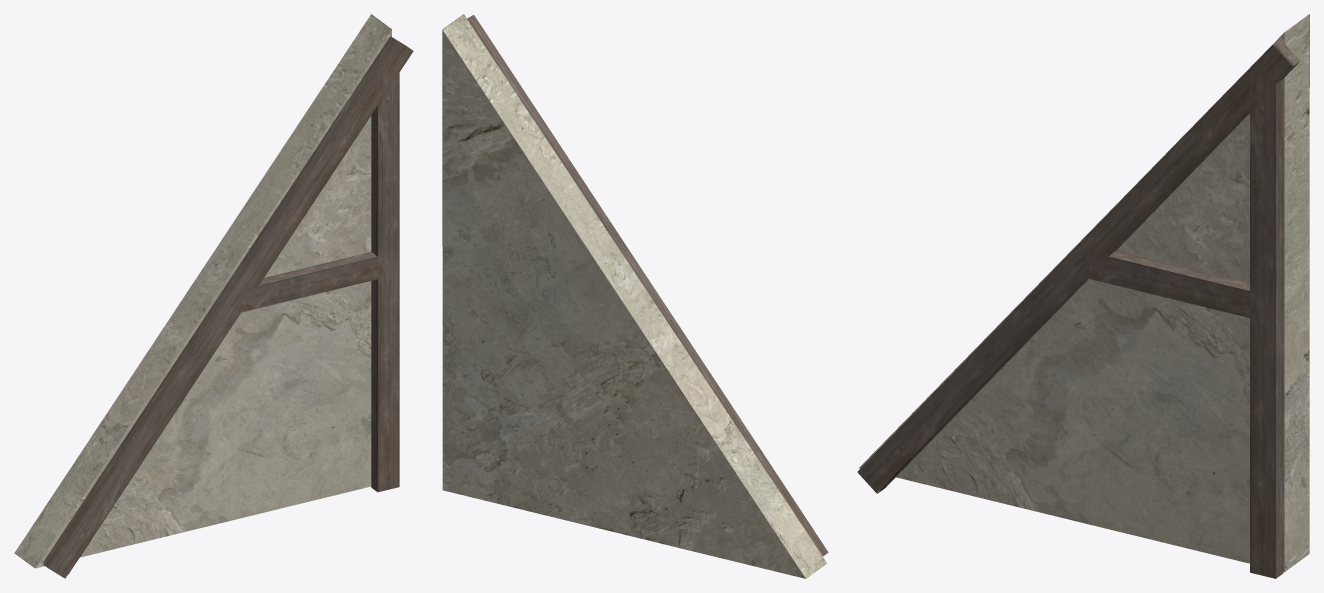
File: pared_1_punta_G_R.fbx
3 views of the same model, side by side, from view 1: azimuth 30°, elevation 25°; view 2: azimuth 150°, elevation 25°; view 3: azimuth 330°, elevation 25° (orthographic). The views are drawn at different scales.
Visible parts, largest first — view 1: pared_1_punta_G_R; view 2: pared_1_punta_G_R; view 3: pared_1_punta_G_R.
Part boxes in pixels (left/top/right/bottom): pared_1_punta_G_R: left=14, top=14, right=413, bottom=578; pared_1_punta_G_R: left=442, top=14, right=828, bottom=578; pared_1_punta_G_R: left=857, top=14, right=1309, bottom=578.
Size of the model in its own units: 419 by 499 by 55.29.
